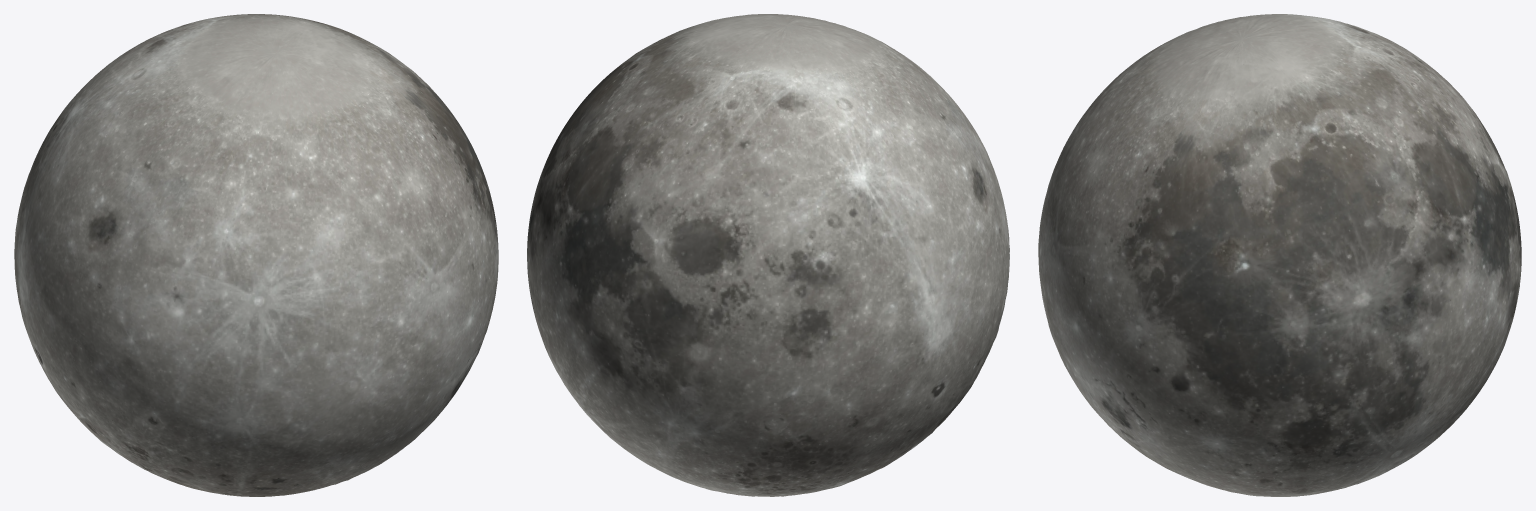
The model's file is spaceyew-moon.glb.
3 renders of one model, left to right at view 1: azimuth 30°, elevation 25°; view 2: azimuth 150°, elevation 25°; view 3: azimuth 270°, elevation 25°, orthographic.
Parts seen in each view (by area): view 1: Moon_NASA_LRO_v04; view 2: Moon_NASA_LRO_v04; view 3: Moon_NASA_LRO_v04.
Boxes of the visible parts, x1,y1,x2,y2 form: Moon_NASA_LRO_v04: (14,14,498,496); Moon_NASA_LRO_v04: (527,14,1009,496); Moon_NASA_LRO_v04: (1038,14,1521,496).
Size of the model in its own units: 25.22 by 25.19 by 25.22.
Materials: 1 (1 with a texture image).
